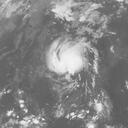cyclone: (46, 36, 87, 75)
